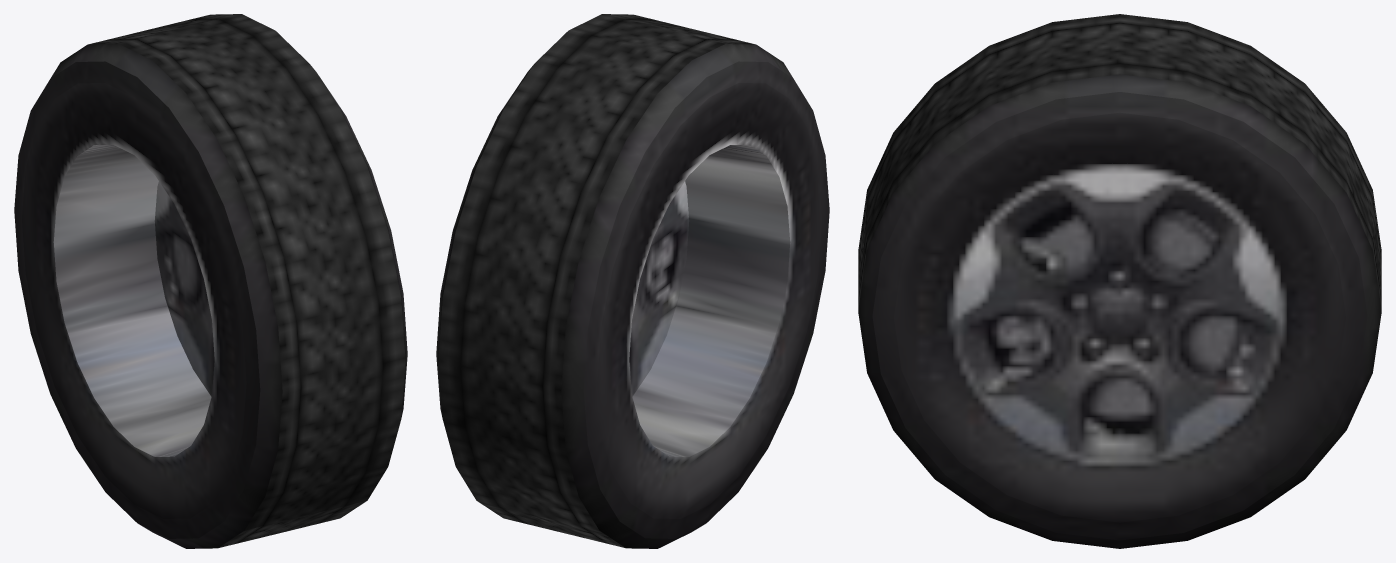
The model's file is LlantaTI.obj.
3 renders of one model, left to right at view 1: azimuth 30°, elevation 25°; view 2: azimuth 150°, elevation 25°; view 3: azimuth 270°, elevation 25°, orthographic.
Parts seen in each view (by area): view 1: Group011; view 2: Group011; view 3: Group011.
Boxes of the visible parts, x1,y1,x2,y2 form: Group011: (14, 14, 407, 548); Group011: (436, 14, 829, 548); Group011: (858, 14, 1381, 548).
Size of the model in its own units: 0.5324 by 1.56 by 1.56.
Materials: 1 (1 with a texture image).
